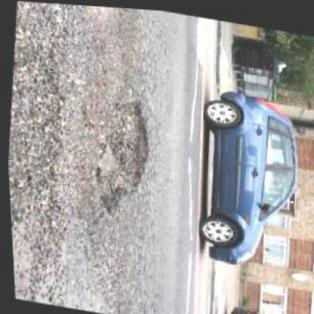Hueco: (83, 91, 157, 218)
